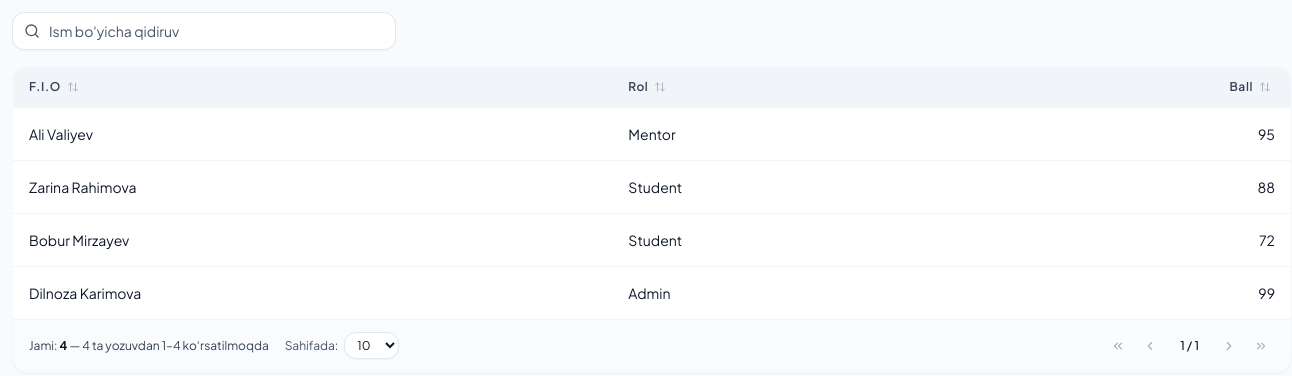
Test case: DataTable Component › filters data based on search input
The width and height of the screenshot is (1292, 376).
Step 1. Type "Zarina" into the field with placeholder "Ism bo'yicha qidiruv" → [204, 31], box [12,12,396,50]
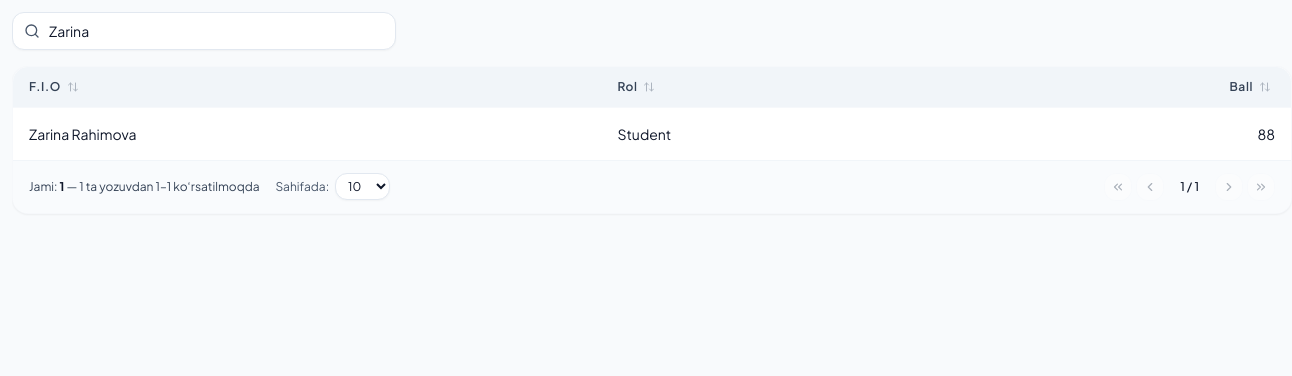
Expected: the text "Zarina Rahimova" is shown, [13,107,601,160]
Now the text "Ali Valiyev" is gone
Now the text "Bobur Mirzayev" is gone
